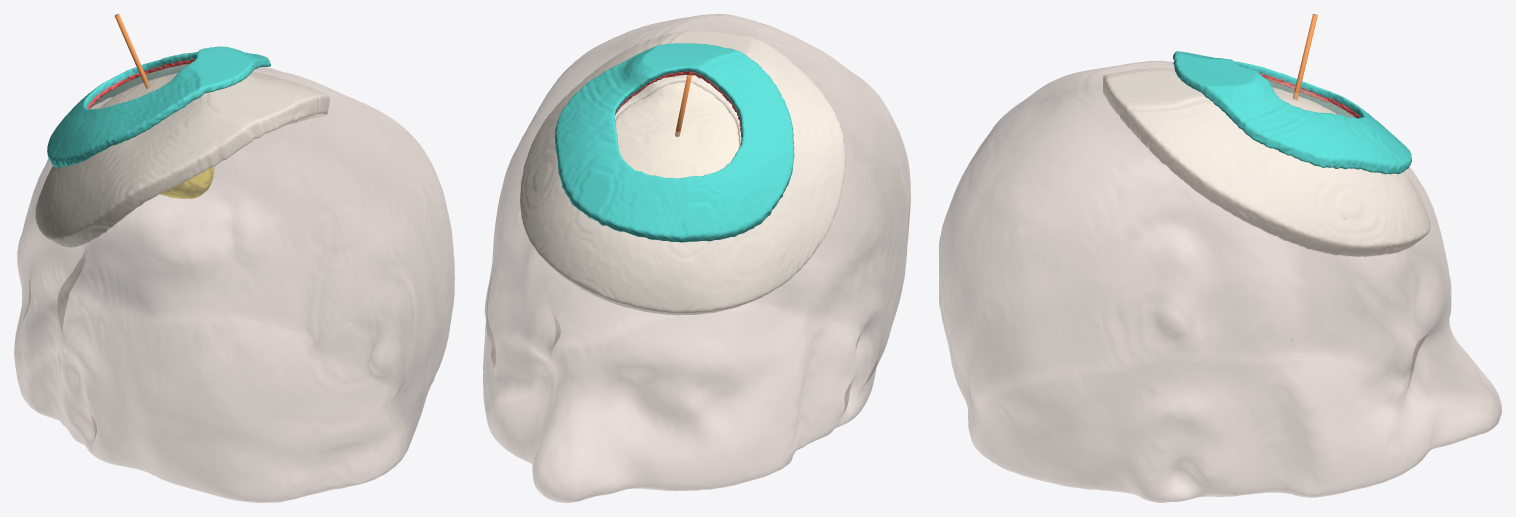
The model's file is vr_escena_tumor.glb.
3 renders of one model, left to right at view 1: azimuth 30°, elevation 25°; view 2: azimuth 150°, elevation 25°; view 3: azimuth 270°, elevation 25°, orthographic. The views are drawn at different scales.
Parts seen in each view (by area): view 1: skin, skull, template, tumor, bone_flap, outline; view 2: skin, skull, template, bone_flap, outline; view 3: skin, skull, template.
Boxes of the visible parts, box(x1,y1,x2,y2) form: skin: box(14, 64, 454, 502); skull: box(35, 71, 329, 247); template: box(47, 46, 270, 167); tumor: box(159, 167, 214, 198); bone_flap: box(99, 73, 177, 108); outline: box(88, 59, 194, 109); skin: box(483, 14, 910, 502); skull: box(520, 30, 845, 315); template: box(554, 43, 794, 242); bone_flap: box(615, 82, 739, 178); outline: box(615, 71, 741, 145); skin: box(939, 60, 1501, 502); skull: box(1103, 68, 1430, 256); template: box(1173, 51, 1411, 174).
Bounding box in the file's own units: 0.1572 × 0.166 × 0.2173.
